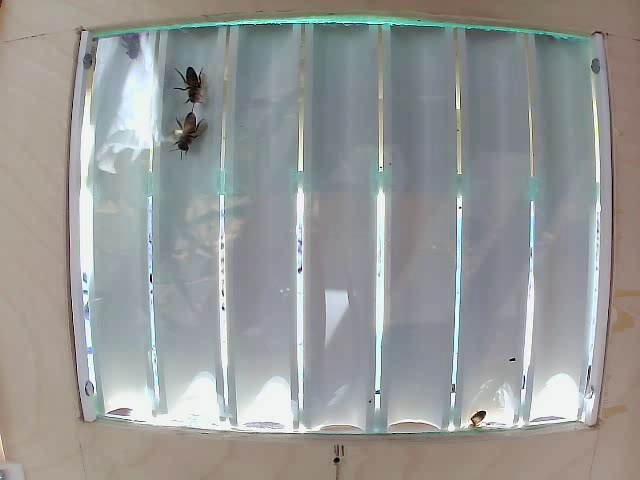bee: (164, 109, 211, 157), (177, 71, 217, 111)
